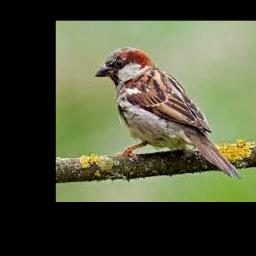Sparrow: (94, 47, 241, 178)
